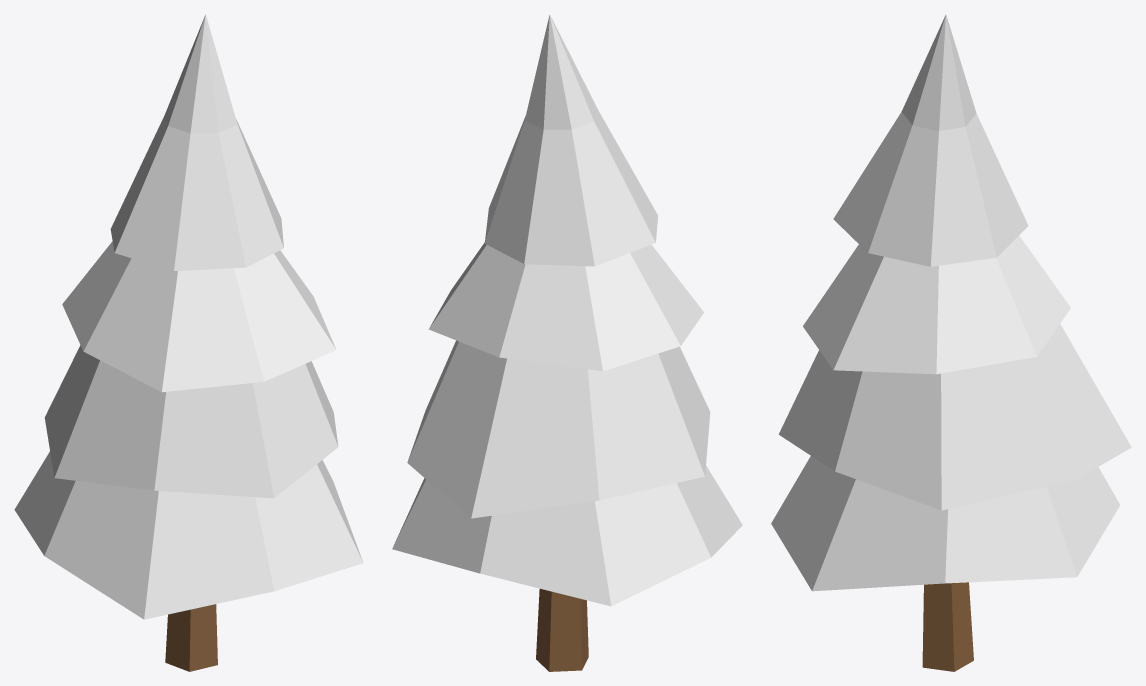
The model's file is Fir_Tree_OneSided_m_Snow_05_LOD.fbx.
3 renders of one model, left to right at view 1: azimuth 30°, elevation 25°; view 2: azimuth 150°, elevation 25°; view 3: azimuth 270°, elevation 25°, orthographic.
Parts seen in each view (by area): view 1: Fir_Tree_OneSided_m_Snow_05_LOD0; view 2: Fir_Tree_OneSided_m_Snow_05_LOD0; view 3: Fir_Tree_OneSided_m_Snow_05_LOD0.
Boxes of the visible parts, x1,y1,x2,y2 form: Fir_Tree_OneSided_m_Snow_05_LOD0: (14, 14, 363, 671); Fir_Tree_OneSided_m_Snow_05_LOD0: (392, 14, 742, 671); Fir_Tree_OneSided_m_Snow_05_LOD0: (771, 14, 1131, 671).
Size of what is drawn, in the model's own units: 295 by 627 by 314.
